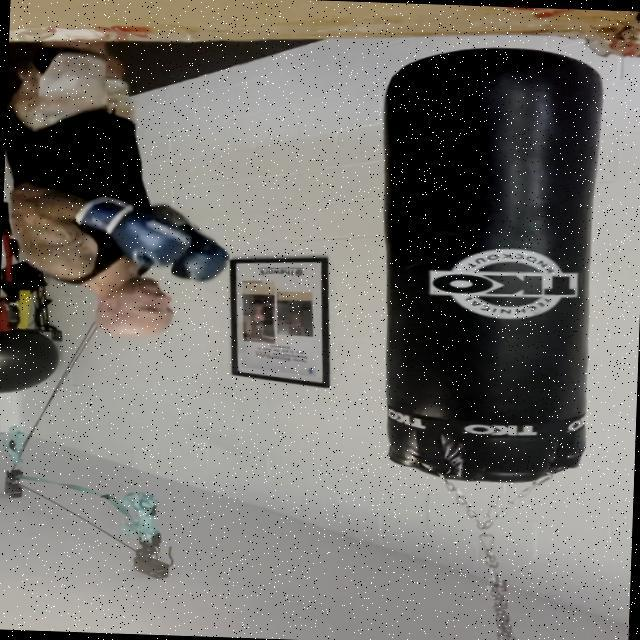bag: (342, 46, 616, 484)
no punch: (0, 174, 251, 344)
